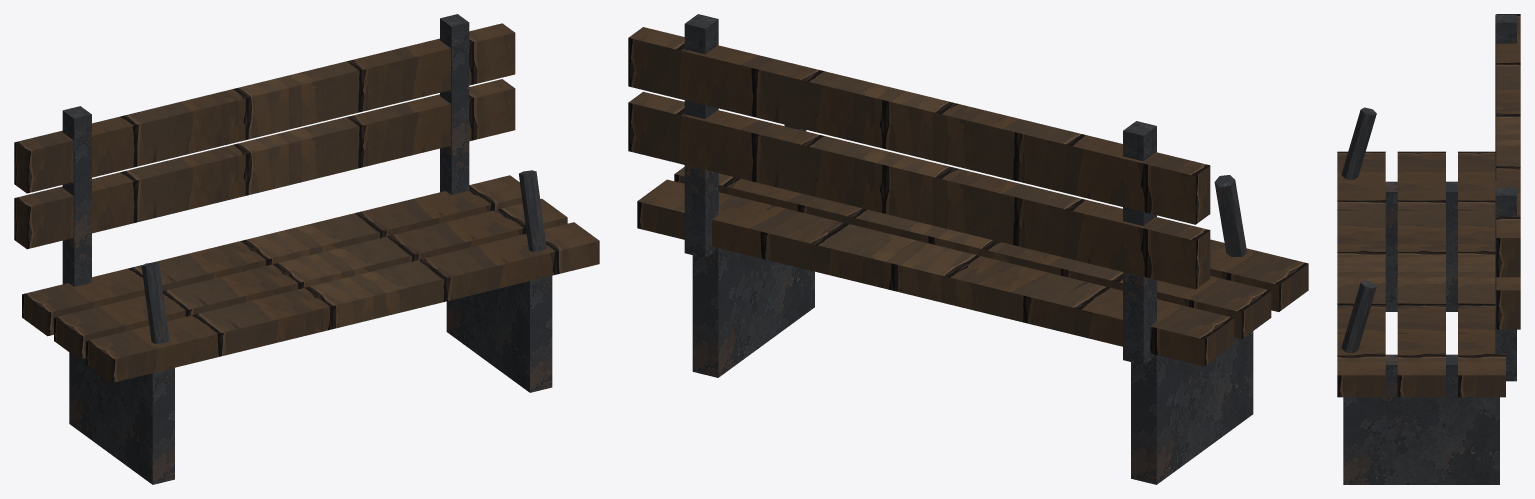
The model's file is bench.glb.
3 views of the same model, side by side, from view 1: azimuth 30°, elevation 25°; view 2: azimuth 150°, elevation 25°; view 3: azimuth 270°, elevation 25° (orthographic). The views are drawn at different scales.
Visible parts, largest first — view 1: bench; view 2: bench; view 3: bench.
Part boxes in pixels (x1,y1,x2,y2): bench: [14, 14, 599, 484]; bench: [628, 14, 1308, 484]; bench: [1337, 14, 1520, 484].
Size of the model in its own units: 2.2 by 1.32 by 0.76.
2 materials, 2 textured.
